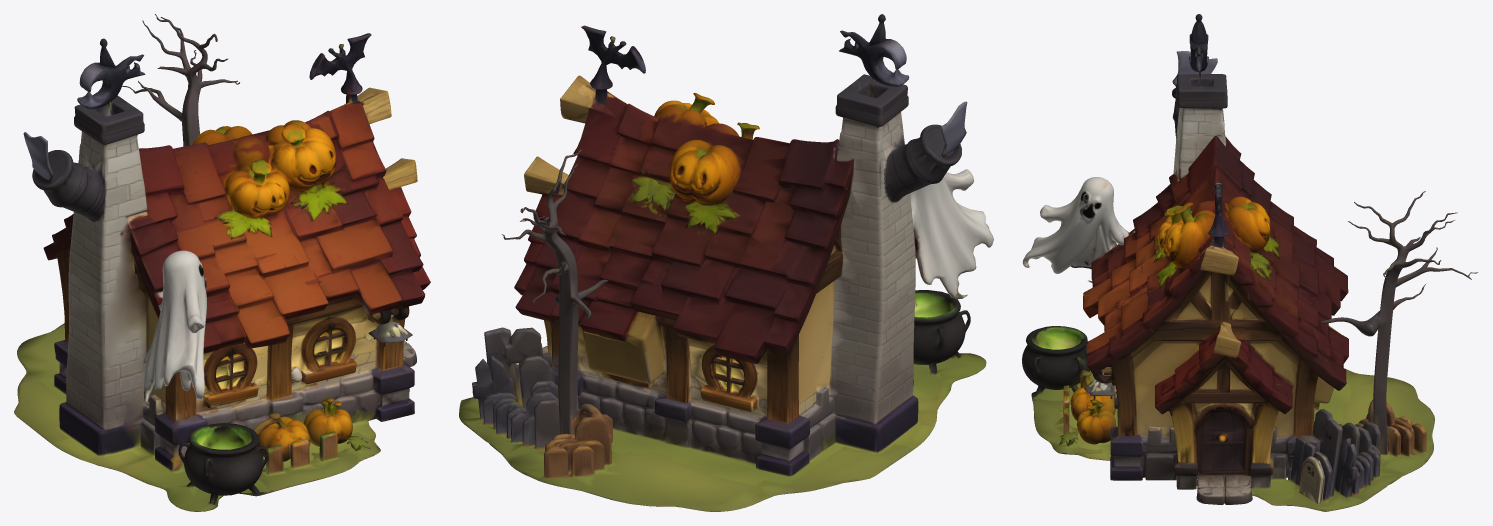
The model's file is pixellabs-house-3623.high.glb.
The picture shows the model from 3 angles, left to right: view 1: azimuth 30°, elevation 25°; view 2: azimuth 150°, elevation 25°; view 3: azimuth 270°, elevation 25°; orthographic projection. The views are drawn at different scales.
Parts seen in each view (by area): view 1: material; view 2: material; view 3: material.
Boxes of the visible parts, left/top/right/bottom form: material: left=14, top=14, right=430, bottom=511; material: left=459, top=14, right=993, bottom=511; material: left=1022, top=14, right=1477, bottom=511.
Bounding box in the file's own units: 0.7627 × 0.7263 × 0.8467.
1 material, 1 textured.
